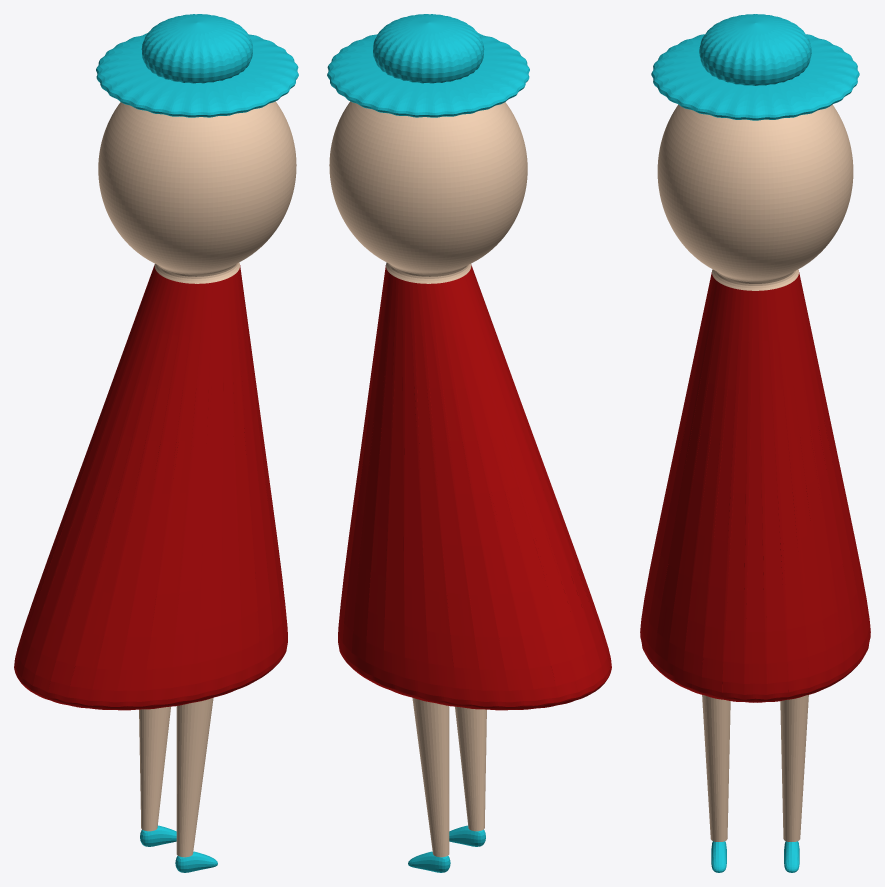
The model's file is npc1.fbx.
The picture shows the model from 3 angles, left to right: view 1: azimuth 30°, elevation 25°; view 2: azimuth 150°, elevation 25°; view 3: azimuth 270°, elevation 25°; orthographic projection. The views are drawn at different scales.
Visible parts, largest first — view 1: Cylinder, Sphere, Cylinder.003, Cylinder.001, Cylinder.002, Cube; view 2: Cylinder, Sphere, Cylinder.003, Cylinder.001, Cylinder.002, Cube; view 3: Cylinder, Sphere, Cylinder.003, Cylinder.001, Cylinder.002, Cube.
Boxes of the visible parts, box(x1,y1,x2,y2) form: Cylinder: box(14, 264, 287, 710); Sphere: box(98, 101, 296, 283); Cylinder.003: box(96, 33, 298, 117); Cylinder.001: box(139, 697, 213, 857); Cylinder.002: box(141, 14, 252, 83); Cube: box(140, 825, 217, 872); Cylinder: box(338, 264, 611, 710); Sphere: box(329, 101, 527, 283); Cylinder.003: box(327, 33, 529, 117); Cylinder.001: box(412, 697, 486, 857); Cylinder.002: box(373, 14, 484, 83); Cube: box(408, 825, 485, 872); Cylinder: box(640, 272, 870, 702); Sphere: box(657, 104, 853, 290); Cylinder.003: box(651, 34, 859, 120); Cylinder.001: box(702, 695, 808, 841); Cylinder.002: box(699, 14, 811, 85); Cube: box(711, 841, 799, 872).
Size of the model in its own units: 277 by 847 by 208.
Materials: 6 (6 with a texture image).
